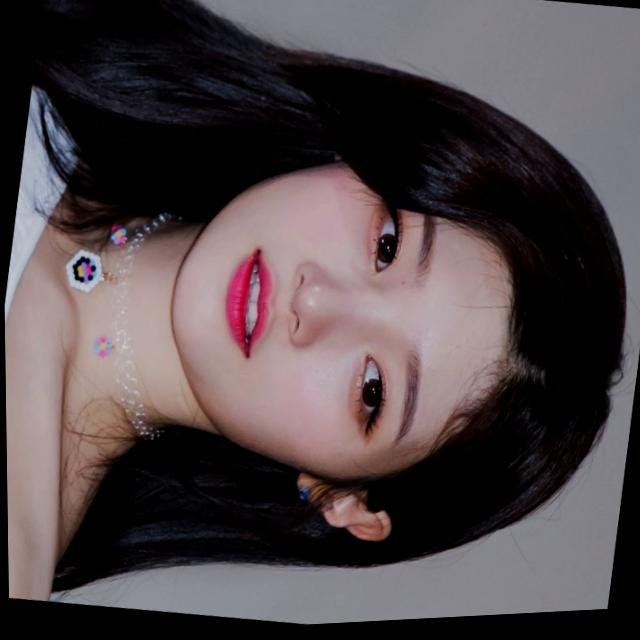face: (370, 45, 640, 308)
